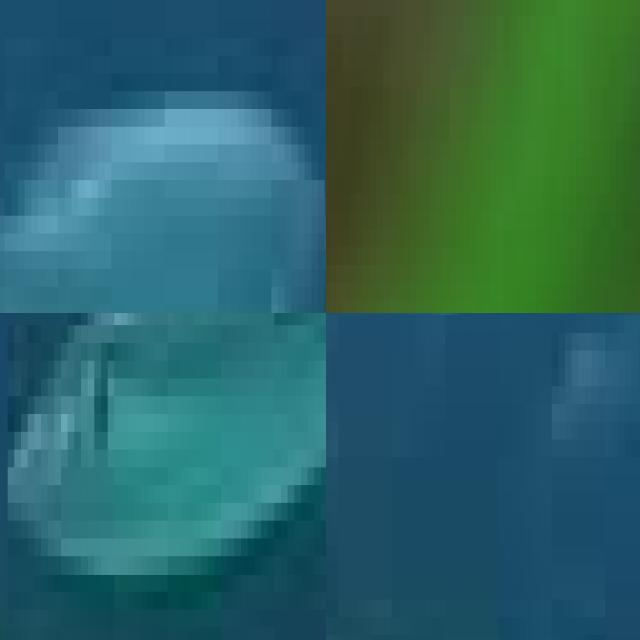fish: (7, 313, 326, 640), (0, 0, 326, 313)
